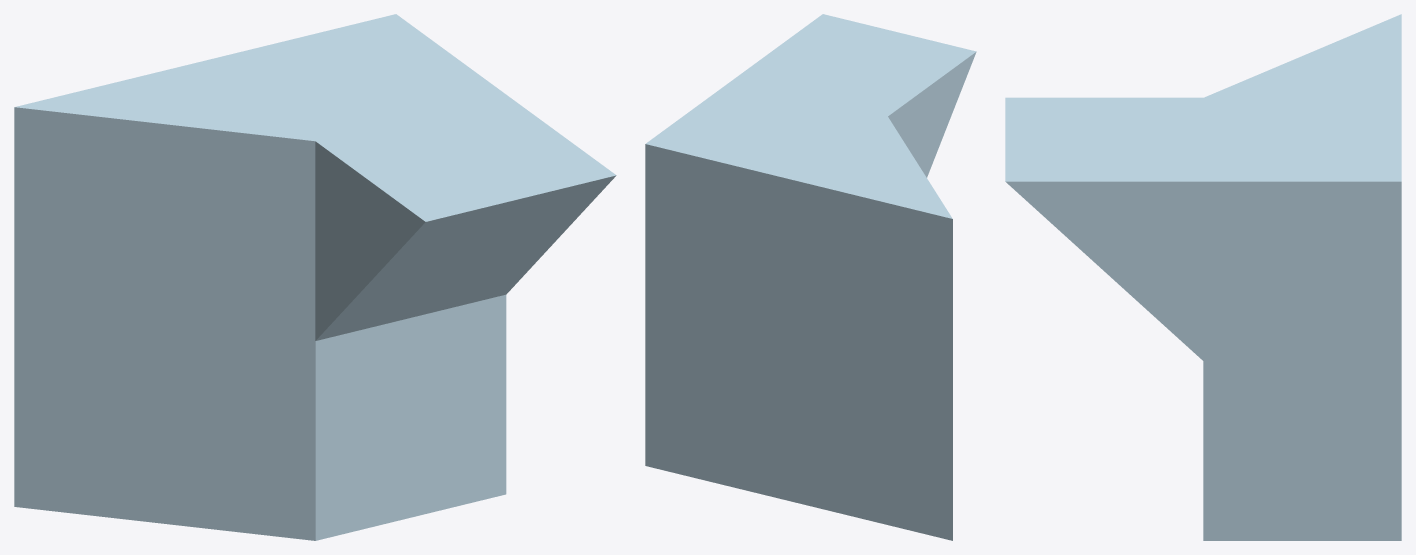
File: Pieza - A.glb
3 renders of one model, left to right at view 1: azimuth 30°, elevation 25°; view 2: azimuth 150°, elevation 25°; view 3: azimuth 270°, elevation 25°, orthographic. The views are drawn at different scales.
Parts seen in each view (by area): view 1: A; view 2: A; view 3: A.
Boxes of the visible parts, <box> form: A: <box>14,14,616,540</box>; A: <box>645,14,976,540</box>; A: <box>1005,14,1401,540</box>.
Size of the model in its own units: 0.04 by 0.04 by 0.04.
